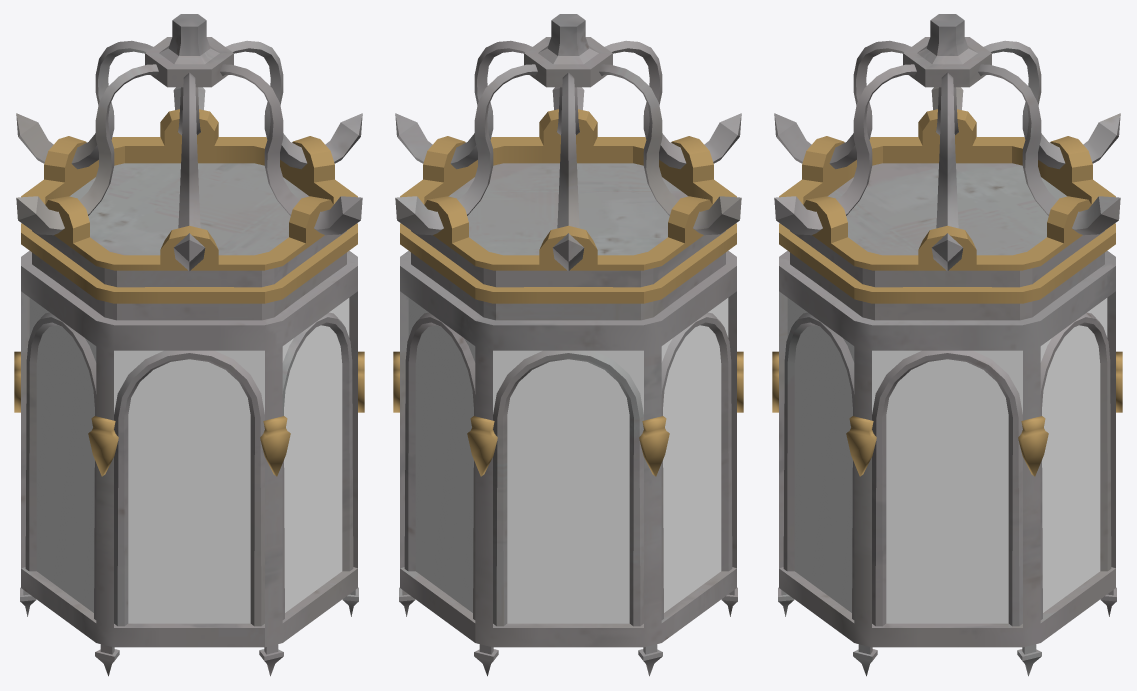
Rendered from SM_Ruins_Lantern_01.fbx.
The picture shows the model from 3 angles, left to right: view 1: azimuth 30°, elevation 25°; view 2: azimuth 150°, elevation 25°; view 3: azimuth 270°, elevation 25°; orthographic projection.
Parts seen in each view (by area): view 1: lantern.001; view 2: lantern.001; view 3: lantern.001.
Boxes of the visible parts, x1,y1,x2,y2 form: lantern.001: [14, 14, 364, 676]; lantern.001: [393, 14, 743, 676]; lantern.001: [772, 14, 1122, 676].
Bounding box in the file's own units: 30.43 × 50.16 × 26.66.
